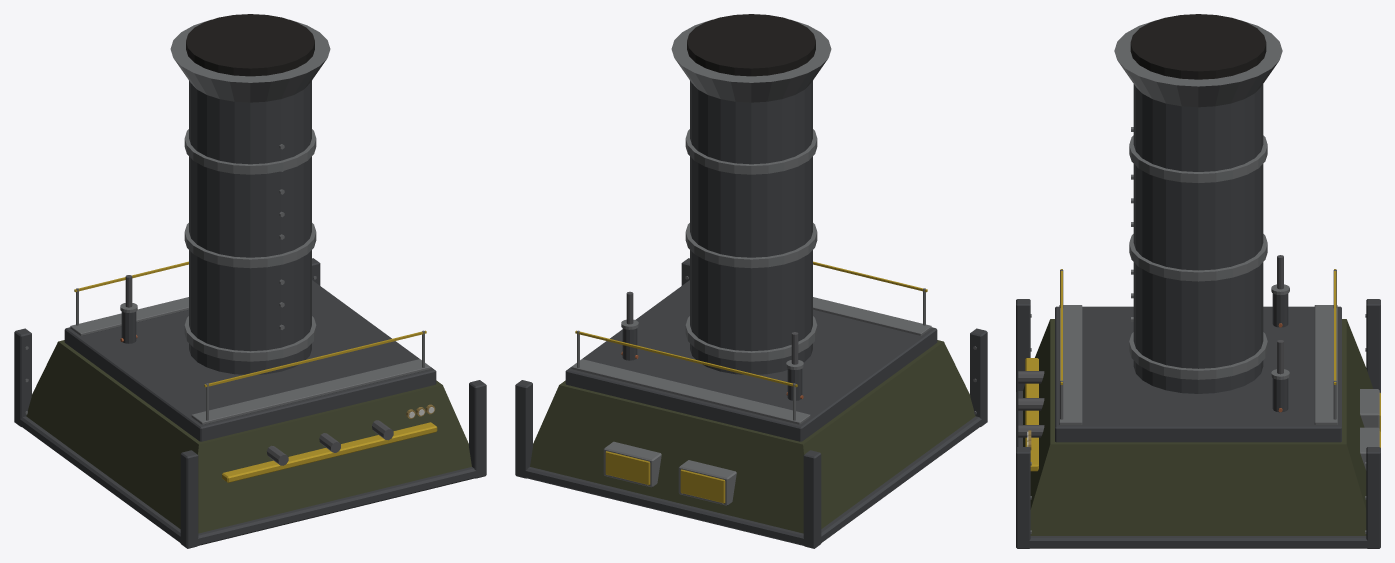
Rendered from silo_mk1.glb.
3 renders of one model, left to right at view 1: azimuth 30°, elevation 25°; view 2: azimuth 150°, elevation 25°; view 3: azimuth 270°, elevation 25°, orthographic. The views are drawn at different scales.
Visible parts, largest first — view 1: silo_mk1_CastIron, silo_mk1_OliveDrab, silo_mk1_WeldedSteel, silo_mk1_Soot, silo_mk1_HazardYellow, silo_mk1_OiledSteel; view 2: silo_mk1_CastIron, silo_mk1_OliveDrab, silo_mk1_WeldedSteel, silo_mk1_Soot, silo_mk1_HazardYellow; view 3: silo_mk1_CastIron, silo_mk1_OliveDrab, silo_mk1_WeldedSteel, silo_mk1_Soot, silo_mk1_HazardYellow, silo_mk1_OiledSteel.
Boxes of the visible parts, <box> form: silo_mk1_CastIron: <box>14,81,486,548</box>; silo_mk1_OliveDrab: <box>26,340,471,533</box>; silo_mk1_WeldedSteel: <box>25,20,430,424</box>; silo_mk1_Soot: <box>186,14,314,76</box>; silo_mk1_HazardYellow: <box>74,261,437,482</box>; silo_mk1_OiledSteel: <box>125,275,393,465</box>; silo_mk1_CastIron: <box>515,81,987,548</box>; silo_mk1_OliveDrab: <box>530,340,975,533</box>; silo_mk1_WeldedSteel: <box>571,20,976,505</box>; silo_mk1_Soot: <box>687,14,815,76</box>; silo_mk1_HazardYellow: <box>575,261,927,503</box>; silo_mk1_CastIron: <box>1016,84,1380,548</box>; silo_mk1_OliveDrab: <box>1023,319,1373,535</box>; silo_mk1_WeldedSteel: <box>1030,20,1379,533</box>; silo_mk1_Soot: <box>1130,14,1266,79</box>; silo_mk1_HazardYellow: <box>1025,269,1380,471</box>; silo_mk1_OiledSteel: <box>1018,255,1283,437</box>.
Size of the model in its own units: 8 by 10.4 by 8.
